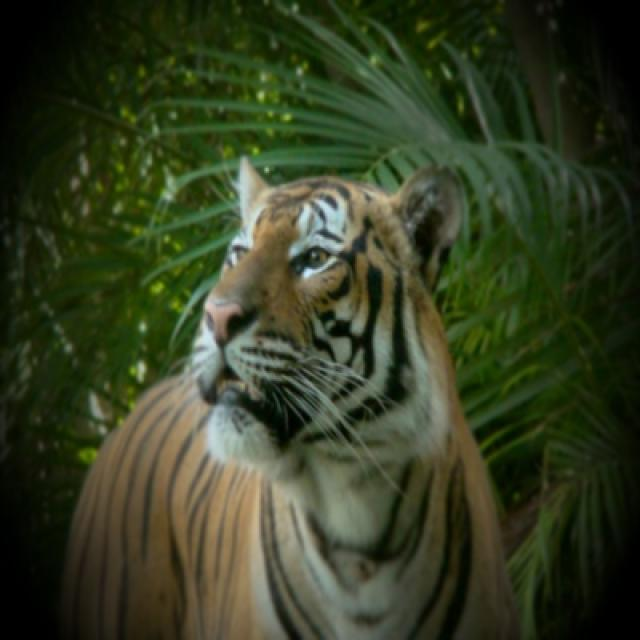Tiger: (62, 160, 517, 638)
